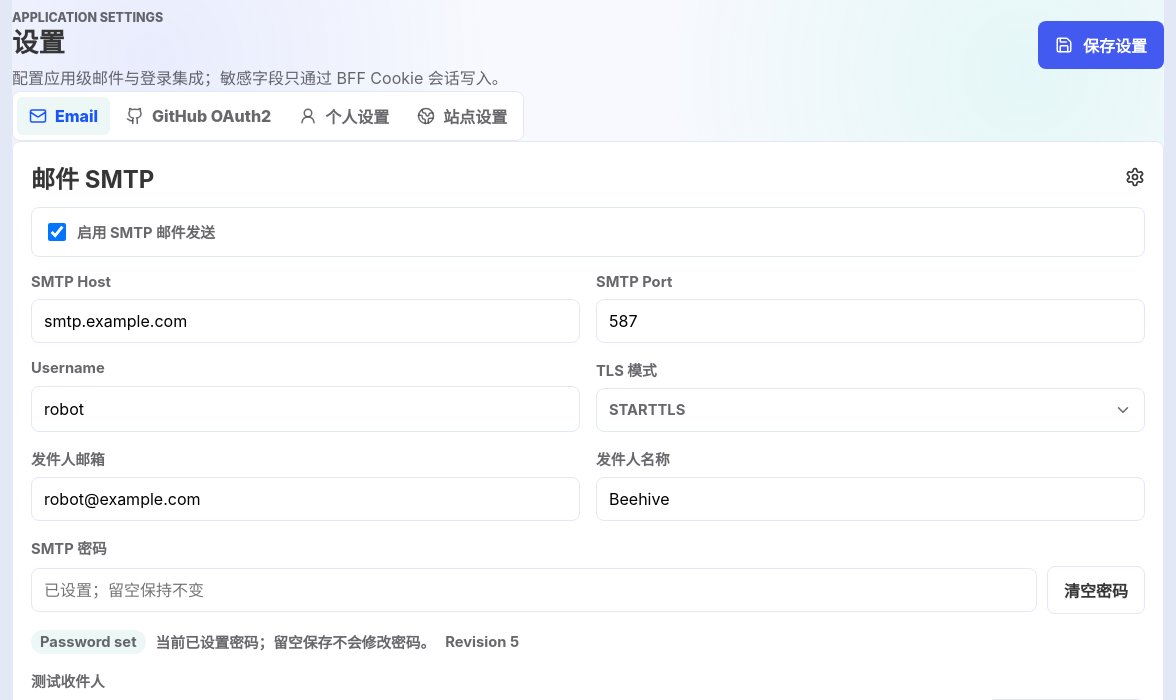
it: StudioSettingsPage › validates enabled SMTP before saving
This screenshot has width=1176, height=700.
Clear the field labelled "SMTP Host": (306, 320) [31,298,580,342]
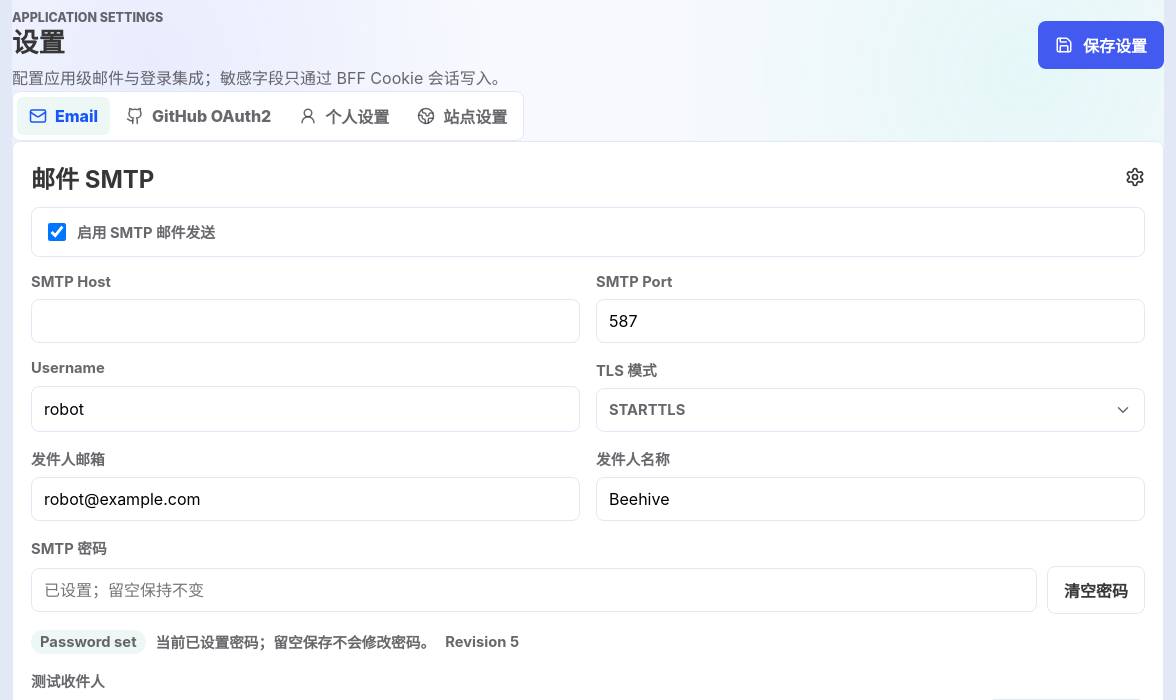
Click the button "保存设置": click(1101, 45) [1038,21,1164,69]
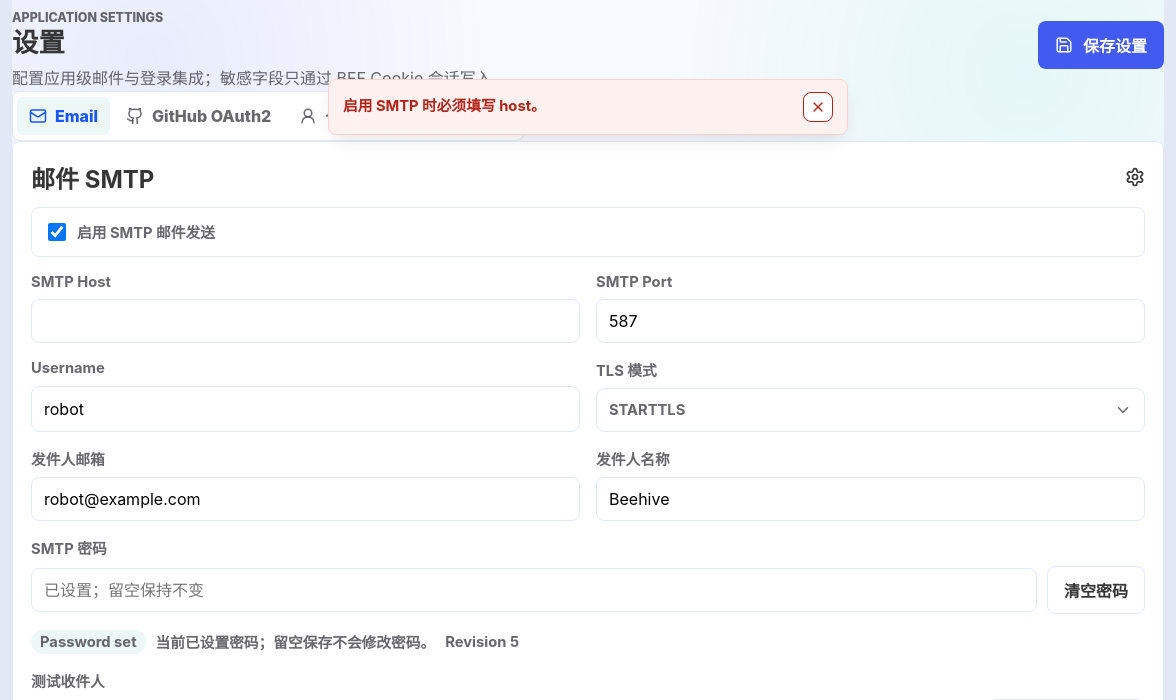
Now the message reads "启用 SMTP 时必须填写 host。", box [343,97,546,115]
